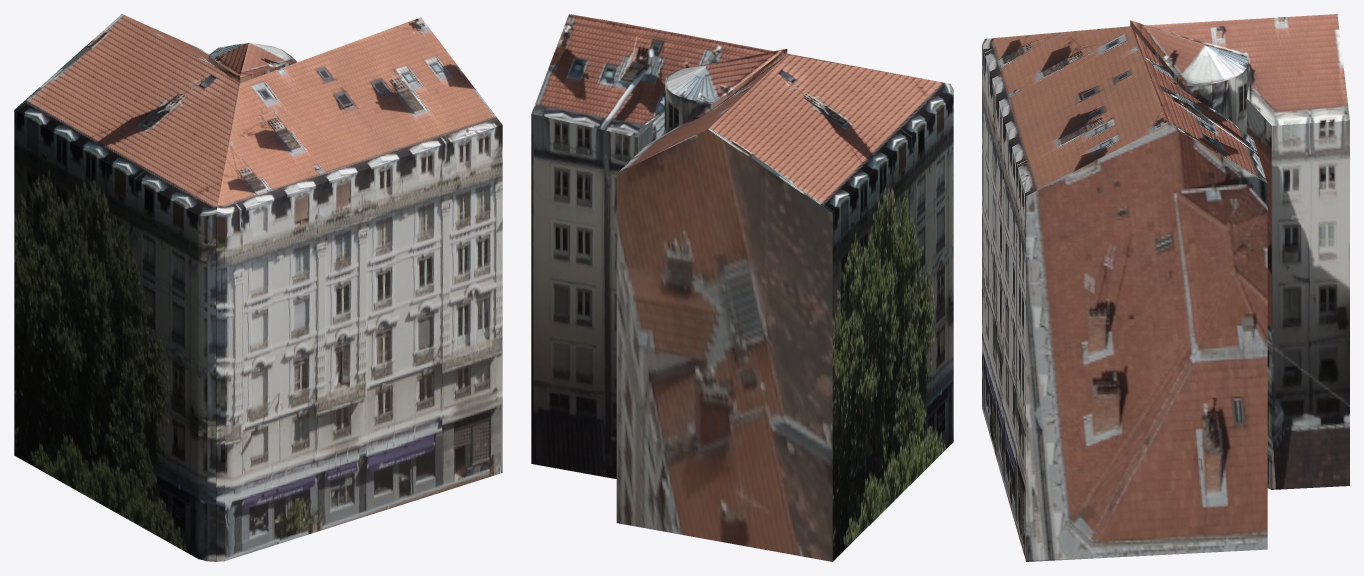
3 views of the same model, side by side, from view 1: azimuth 30°, elevation 25°; view 2: azimuth 150°, elevation 25°; view 3: azimuth 270°, elevation 25° (orthographic). The views are drawn at different scales.
Parts seen in each view (by area): view 1: Z_UP; view 2: Z_UP; view 3: Z_UP.
Boxes of the visible parts, bbox=[...] form: Z_UP: bbox=[14, 14, 502, 561]; Z_UP: bbox=[531, 14, 953, 561]; Z_UP: bbox=[982, 14, 1349, 561].
Size of the model in its own units: 23.93 by 26.95 by 20.79.
2 materials, 1 textured.
